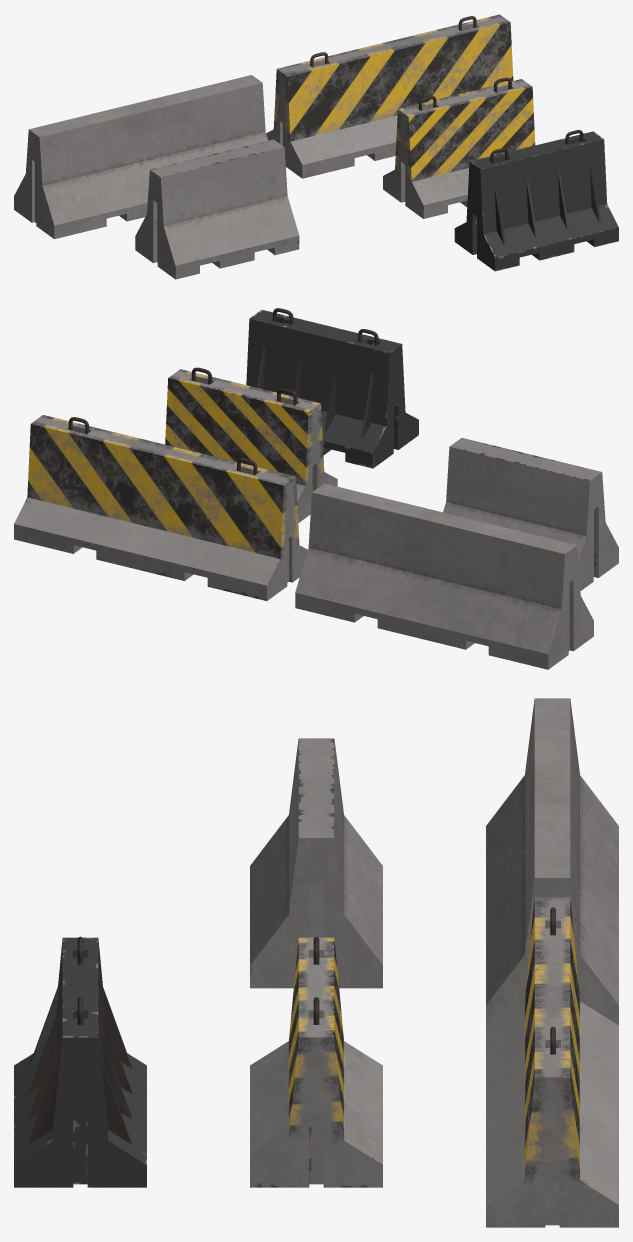
Rendered from barriers.glb.
3 renders of one model, top to bottom at view 1: azimuth 30°, elevation 25°; view 2: azimuth 150°, elevation 25°; view 3: azimuth 270°, elevation 25°, orthographic. The views are drawn at different scales.
Visible parts, largest first — view 1: barrier, barrier_caution, barrier_small, barrier_small_advanced, barrier_small_caution, barrier_small.003; view 2: barrier, barrier_caution, barrier_small_advanced, barrier_small, barrier_small_caution, barrier_small.003; view 3: barrier_caution, barrier, barrier_small_caution, barrier_small, barrier_small_advanced, barrier_small.003.
Boxes of the visible parts, x1,y1,x2,y2 form: barrier: (14, 75, 268, 239); barrier_caution: (266, 14, 513, 178); barrier_small: (135, 139, 299, 279); barrier_small_advanced: (454, 131, 618, 271); barrier_small_caution: (383, 79, 535, 218); barrier_small.003: (490, 130, 600, 245); barrier: (295, 483, 593, 669); barrier_caution: (14, 415, 307, 600); barrier_small_advanced: (246, 309, 418, 468); barrier_small: (443, 438, 618, 590); barrier_small_caution: (165, 369, 337, 522); barrier_small.003: (257, 308, 378, 439); barrier_caution: (486, 897, 618, 1227); barrier: (486, 698, 618, 1025); barrier_small_caution: (250, 937, 382, 1187); barrier_small: (250, 738, 382, 988); barrier_small_advanced: (14, 937, 146, 1187); barrier_small.003: (28, 936, 132, 1144).
Size of the model in its own units: 2280 by 469 by 1538.
Materials: 1 (1 with a texture image).
